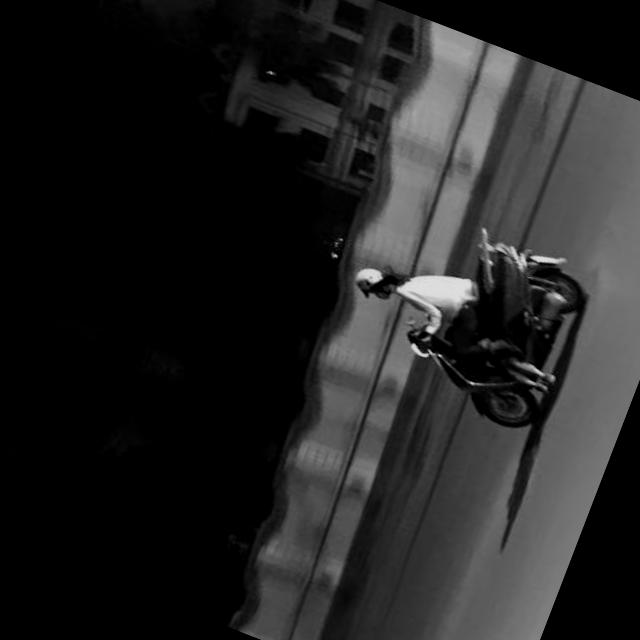Motobike: (387, 215, 598, 435)
